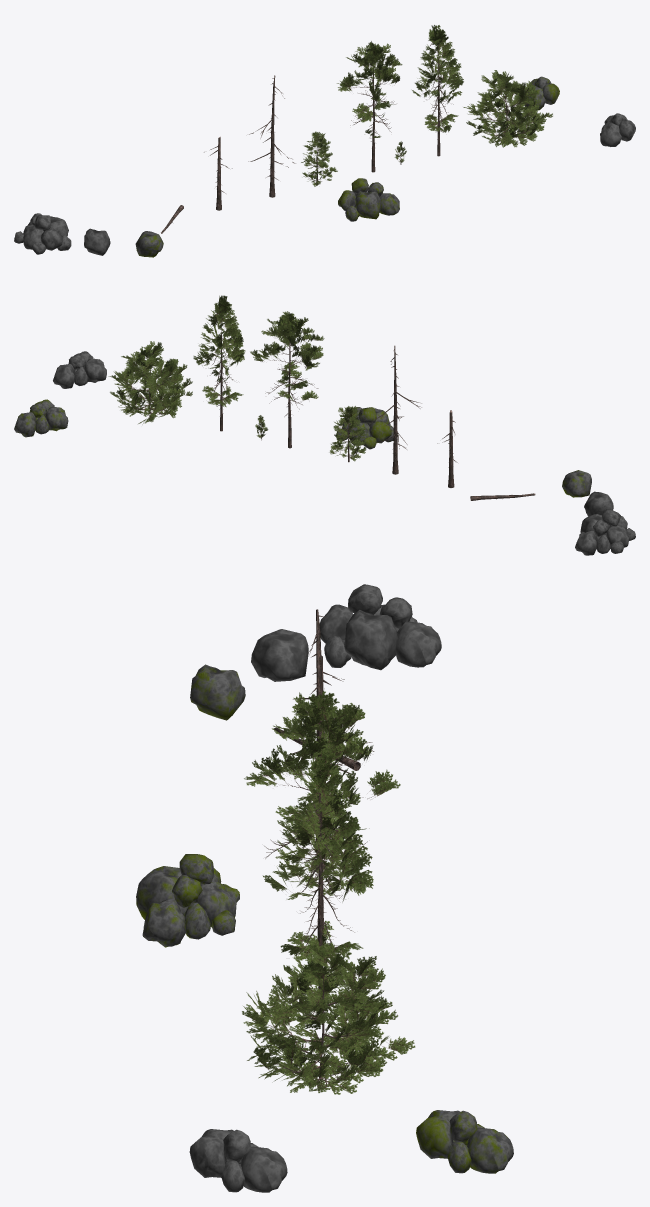
File: conifer_pack.glb
3 renders of one model, top to bottom at view 1: azimuth 30°, elevation 25°; view 2: azimuth 150°, elevation 25°; view 3: azimuth 270°, elevation 25°, orthographic. The views are drawn at different scales.
Visible parts, largest first — view 1: ConiferousShrub_3, FirTree_0, PineTree_1, BoulderOutcropMossyLarge_9, BoulderOutcropPlainLarge_11, NobleFirTree_2, BoulderOutcropPlainMedium_12, Coniferous Dead Tree_6, BoulderOutcropMossyMedium_10, BoulderMossyLarge_8, BoulderPlainLarge_13, Coniferous Dead Tree 2_7; view 2: ConiferousShrub_3, PineTree_1, FirTree_0, BoulderOutcropPlainLarge_11, BoulderOutcropMossyLarge_9, BoulderOutcropMossyMedium_10, BoulderOutcropPlainMedium_12, NobleFirTree_2, Coniferous Dead Tree_6, BoulderMossyLarge_8, BoulderPlainLarge_13, Coniferous Dead Tree 2_7; view 3: ConiferousShrub_3, FirTree_0, PineTree_1, BoulderOutcropPlainLarge_11, BoulderOutcropMossyLarge_9, BoulderOutcropPlainMedium_12, BoulderOutcropMossyMedium_10, BoulderPlainLarge_13, BoulderMossyLarge_8, NobleFirTree_2.
Part boxes in pixels (box(x1,y1,x2,y2)): ConiferousShrub_3: box(463, 70, 552, 147); FirTree_0: box(412, 25, 463, 156); PineTree_1: box(337, 41, 402, 172); BoulderOutcropMossyLarge_9: box(338, 178, 399, 221); BoulderOutcropPlainLarge_11: box(14, 213, 71, 254); NobleFirTree_2: box(301, 131, 337, 186); BoulderOutcropPlainMedium_12: box(600, 113, 635, 146); Coniferous Dead Tree_6: box(248, 75, 295, 197); BoulderOutcropMossyMedium_10: box(524, 76, 559, 110); BoulderMossyLarge_8: box(135, 231, 163, 257); BoulderPlainLarge_13: box(84, 228, 110, 255); Coniferous Dead Tree 2_7: box(204, 136, 232, 210); ConiferousShrub_3: box(108, 341, 192, 424); PineTree_1: box(250, 311, 324, 448); FirTree_0: box(193, 295, 245, 431); BoulderOutcropPlainLarge_11: box(575, 509, 635, 555); BoulderOutcropMossyLarge_9: box(336, 407, 397, 449); BoulderOutcropMossyMedium_10: box(14, 399, 68, 437); BoulderOutcropPlainMedium_12: box(53, 351, 106, 388); NobleFirTree_2: box(329, 406, 366, 462); Coniferous Dead Tree_6: box(370, 345, 421, 474); BoulderMossyLarge_8: box(562, 470, 591, 497); BoulderPlainLarge_13: box(584, 491, 613, 516); Coniferous Dead Tree 2_7: box(437, 410, 457, 487); ConiferousShrub_3: box(242, 934, 415, 1094); FirTree_0: box(262, 748, 373, 989); PineTree_1: box(244, 688, 400, 941); BoulderOutcropPlainLarge_11: box(319, 584, 441, 670); BoulderOutcropMossyLarge_9: box(136, 854, 239, 947); BoulderOutcropPlainMedium_12: box(189, 1129, 287, 1192); BoulderOutcropMossyMedium_10: box(416, 1110, 513, 1173); BoulderPlainLarge_13: box(251, 629, 308, 681); BoulderMossyLarge_8: box(190, 664, 245, 720); NobleFirTree_2: box(287, 788, 353, 895).
Size of the model in its own units: 80.02 by 18.97 by 22.68.
5 materials, 5 textured.
